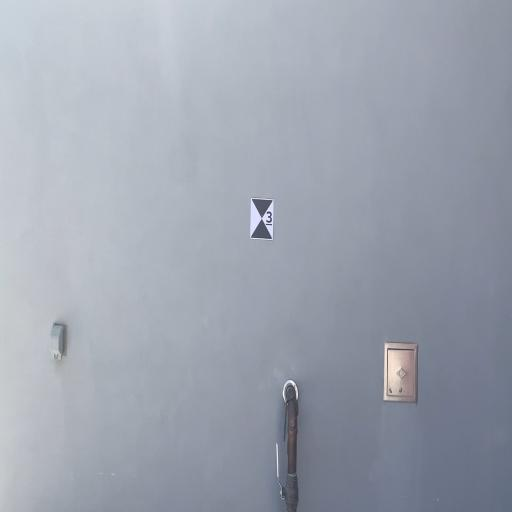target3: (250, 197, 274, 240)
